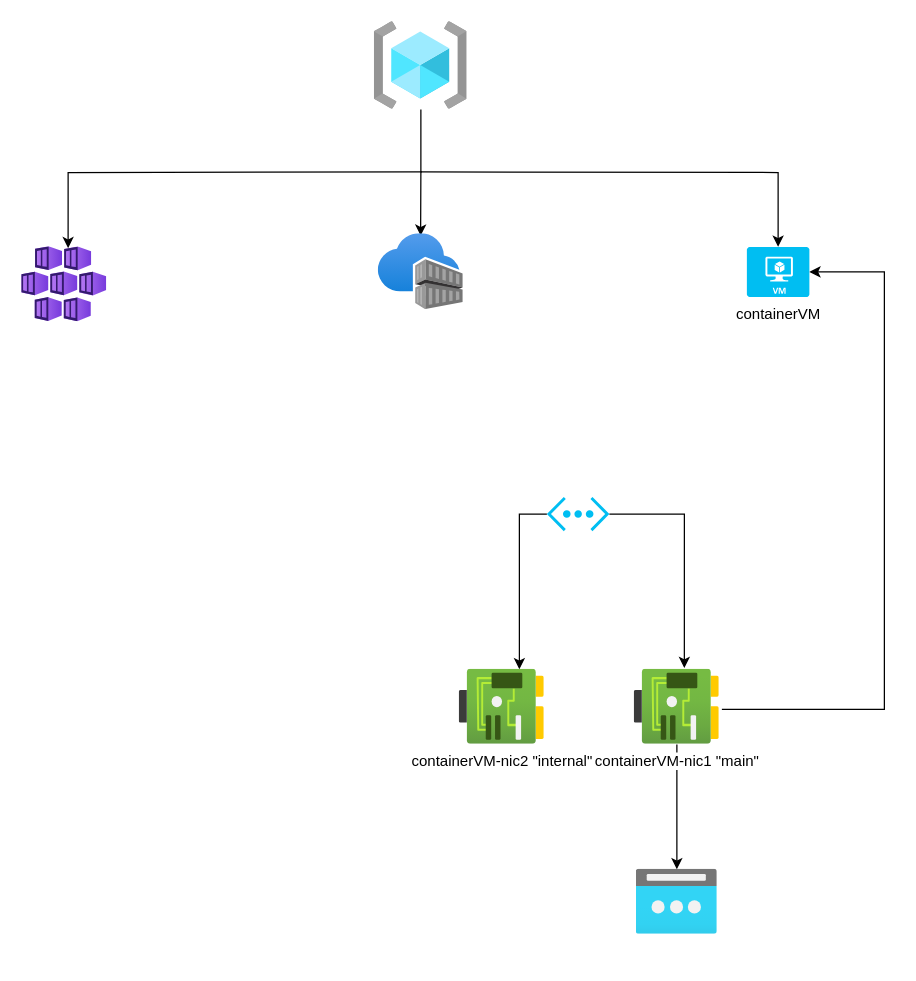
Image size: 916x981. Some labels were removed from this diagram. The centre of each missing label's shape, as x and y in pixels:
"containerVM-network" 10.0.0.0/16: [577,513]
ContainerVM-pip: [676,901]
